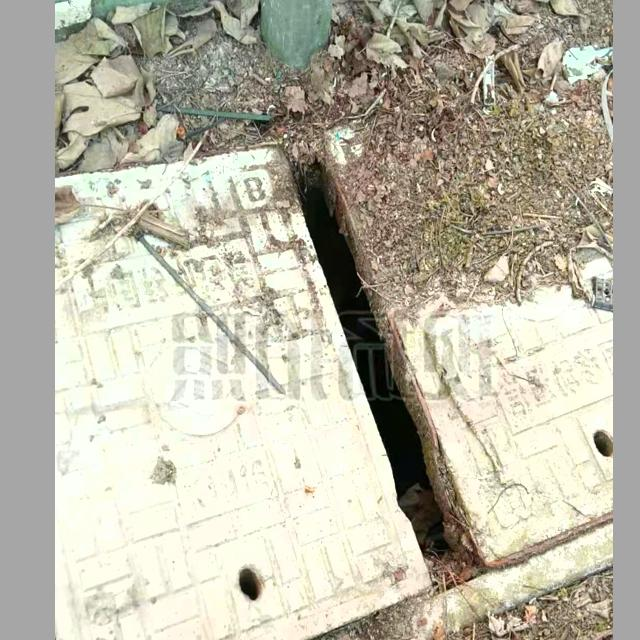uncovered: (55, 114, 611, 640)
